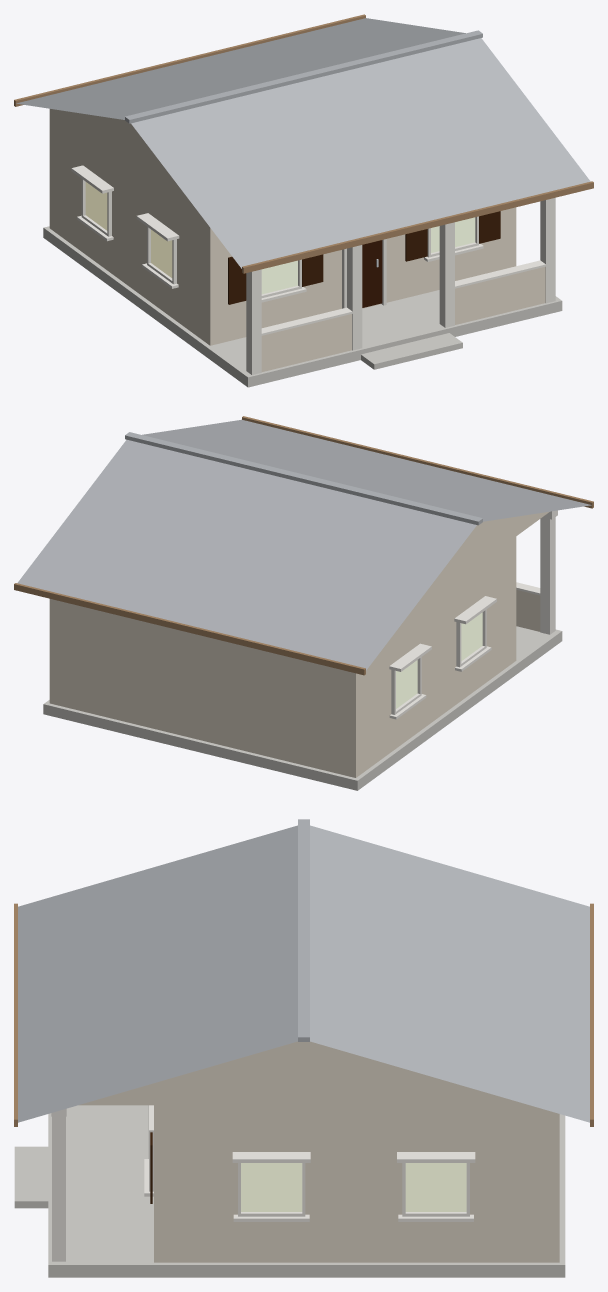
File: SM_Maison_Populaire_A.fbx
3 views of the same model, one above another, from view 1: azimuth 30°, elevation 25°; view 2: azimuth 150°, elevation 25°; view 3: azimuth 270°, elevation 25° (orthographic). The views are drawn at different scales.
Parts seen in each view (by area): view 1: SM_Maison_Populaire_A; view 2: SM_Maison_Populaire_A; view 3: SM_Maison_Populaire_A.
Boxes of the visible parts, x1,y1,x2,y2 form: SM_Maison_Populaire_A: [14, 14, 593, 387]; SM_Maison_Populaire_A: [14, 416, 593, 790]; SM_Maison_Populaire_A: [14, 819, 593, 1277].
Bounding box in the file's own units: 878 × 474 × 987.
